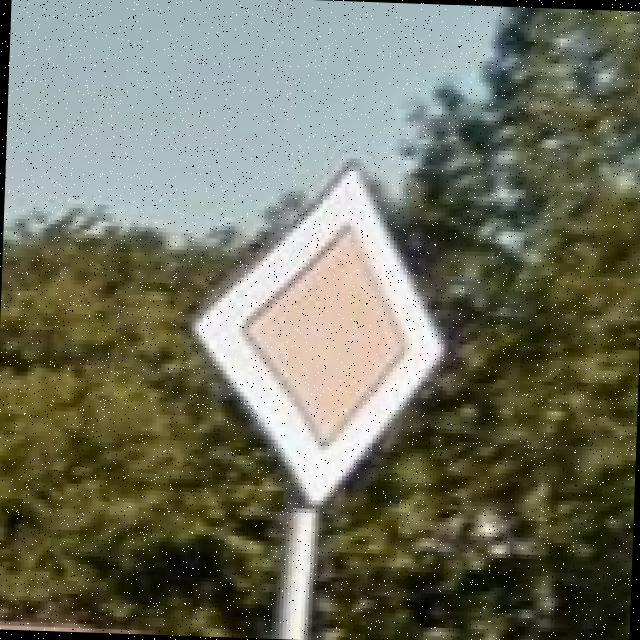Droga z pierwszenstwem: (181, 152, 454, 513)
